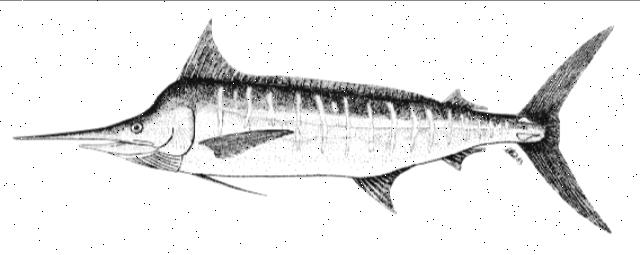Mulut: (5, 116, 156, 174)
Sirip Anal: (432, 82, 496, 179)
Sirip Dada: (193, 120, 299, 168)
Sirip Ekor: (506, 21, 622, 247)
Sirip Perut: (350, 152, 422, 221)
Sirip Punggung: (172, 10, 438, 110)
